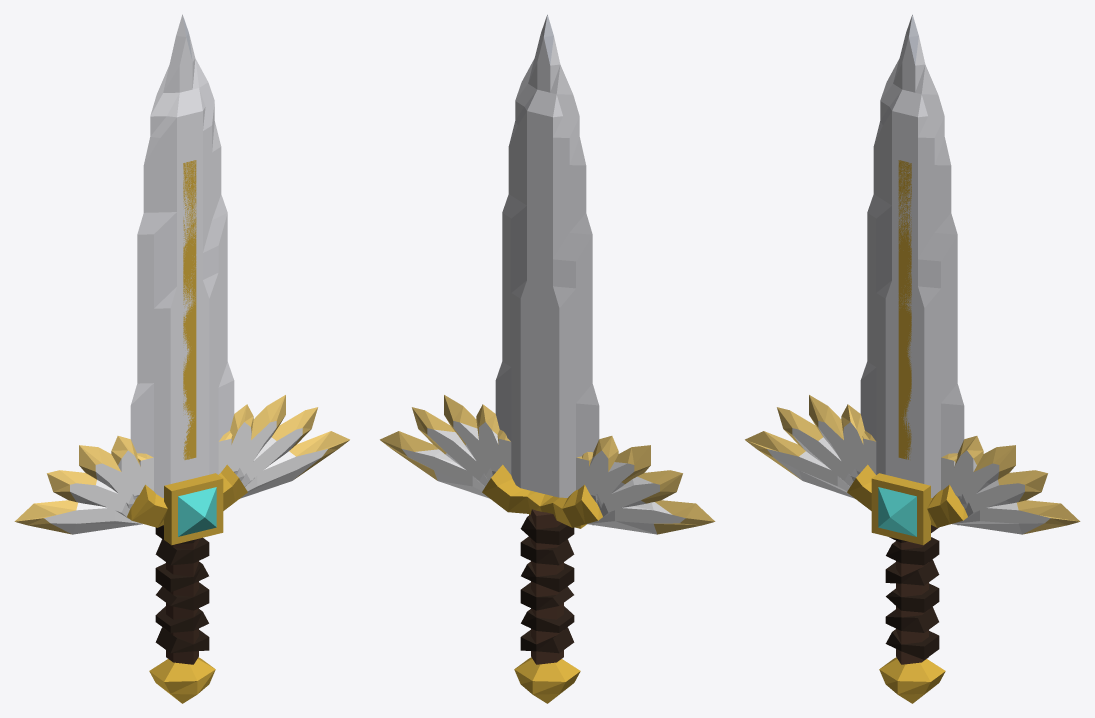
File: B12_2_seraph_longsword.obj
The picture shows the model from 3 angles, left to right: view 1: azimuth 30°, elevation 25°; view 2: azimuth 150°, elevation 25°; view 3: azimuth 330°, elevation 25°; orthographic projection.
Visible parts, largest first — view 1: B12_2_seraph_longsword; view 2: B12_2_seraph_longsword; view 3: B12_2_seraph_longsword.
Part boxes in pixels (<box>): B12_2_seraph_longsword: <box>14,14,349,703</box>; B12_2_seraph_longsword: <box>380,14,715,703</box>; B12_2_seraph_longsword: <box>745,14,1080,703</box>.
Size of the model in its own units: 52 by 102 by 10.
